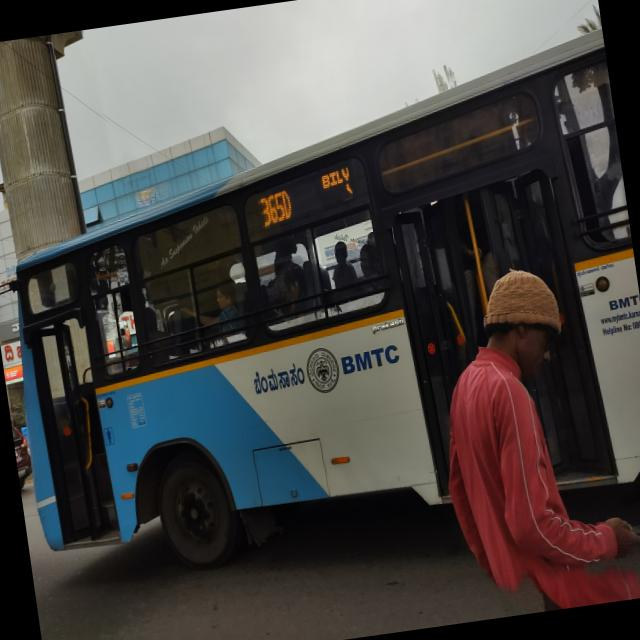bus: (0, 8, 640, 598)
display: (257, 159, 369, 230)
dnumber: (260, 187, 297, 226)
